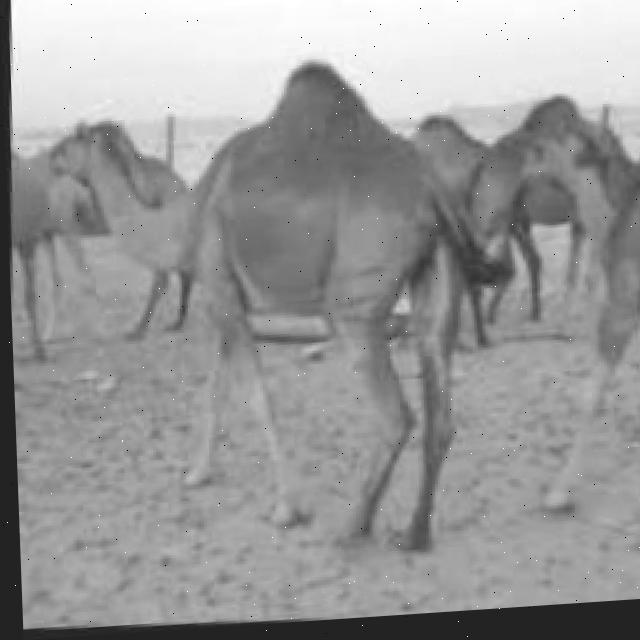Camel: (37, 48, 507, 574)
